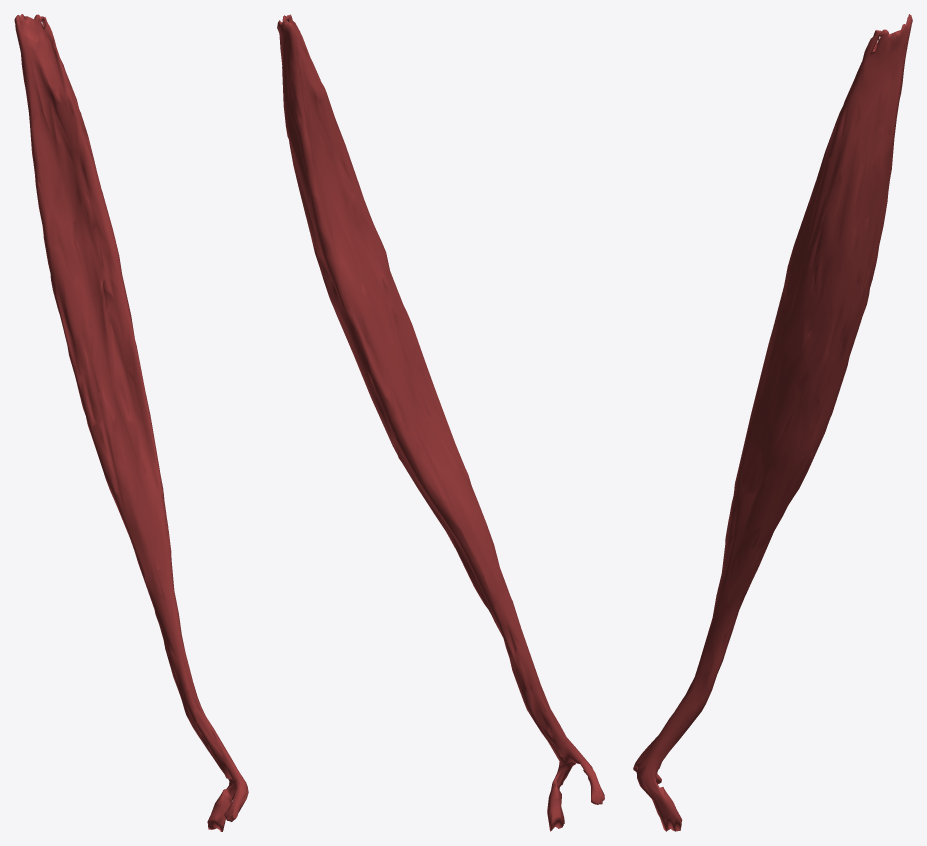
Rendered from humeral-head-of-flexor-carpi-ulnaris-r.glb.
The picture shows the model from 3 angles, left to right: view 1: azimuth 90°, elevation 25°; view 2: azimuth 150°, elevation 25°; view 3: azimuth 270°, elevation 25°; orthographic projection. The views are drawn at different scales.
Parts seen in each view (by area): view 1: Humeral head of flexor carpi ulnaris.r; view 2: Humeral head of flexor carpi ulnaris.r; view 3: Humeral head of flexor carpi ulnaris.r.
Part boxes in pixels (x1,y1,x2,y2): Humeral head of flexor carpi ulnaris.r: (14, 14, 248, 831); Humeral head of flexor carpi ulnaris.r: (277, 14, 604, 831); Humeral head of flexor carpi ulnaris.r: (633, 14, 912, 831).
Size of the model in its own units: 0.071 by 0.2757 by 0.0781.
